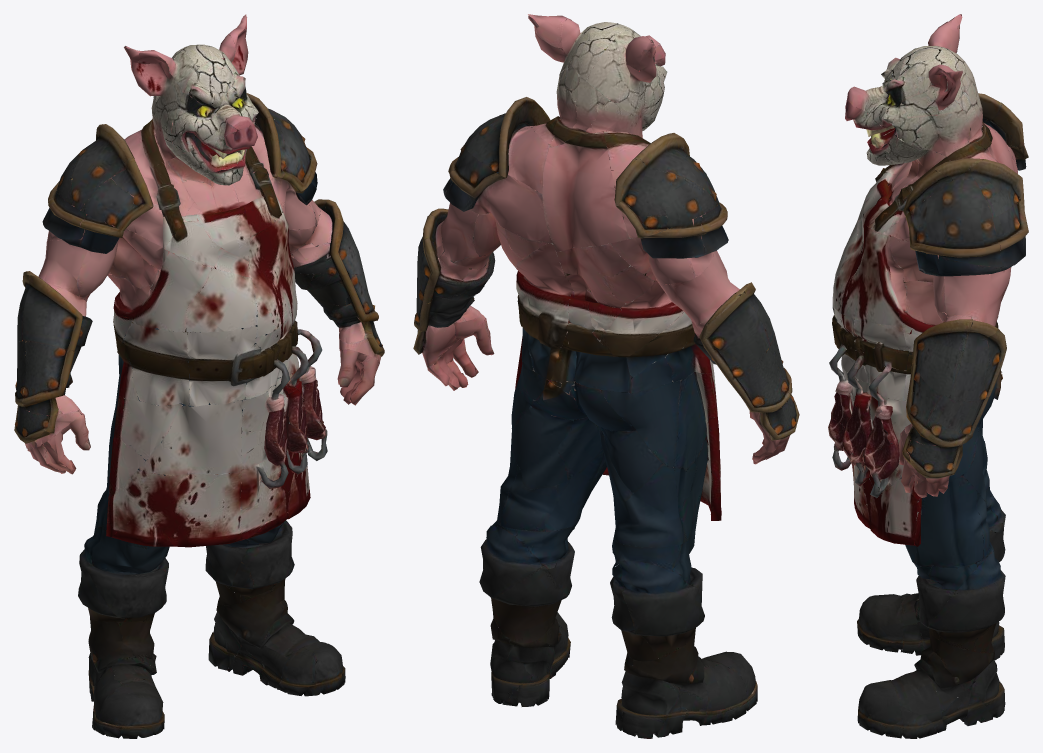
File: 06_carnival_butcher.glb
3 renders of one model, left to right at view 1: azimuth 30°, elevation 25°; view 2: azimuth 150°, elevation 25°; view 3: azimuth 270°, elevation 25°, orthographic. The views are drawn at different scales.
Visible parts, largest first — view 1: mesh_node; view 2: mesh_node; view 3: mesh_node.
Boxes of the visible parts, x1,y1,x2,y2 form: mesh_node: [14, 14, 384, 738]; mesh_node: [413, 14, 799, 738]; mesh_node: [828, 14, 1028, 738].
Size of the model in its own units: 1.1 by 1.9 by 0.5392.
Materials: 1 (1 with a texture image).
